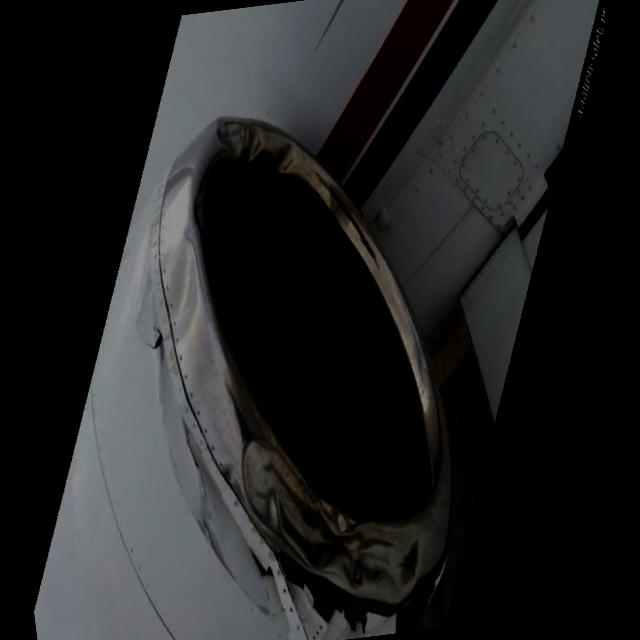dent: (237, 414, 419, 606), (213, 110, 298, 184), (161, 250, 204, 337), (154, 172, 202, 237)
